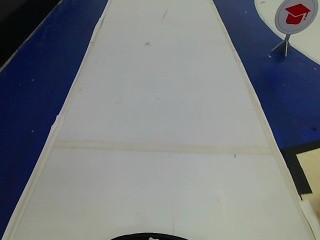school: (277, 0, 316, 41)
